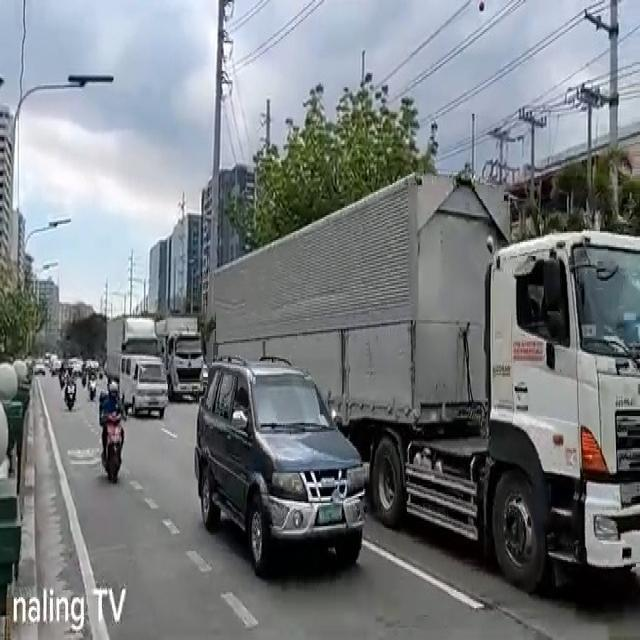car: (194, 354, 368, 580)
motorcycle: (99, 379, 125, 488), (64, 365, 79, 412), (88, 362, 98, 402)
truck: (211, 170, 640, 588), (106, 316, 160, 394), (158, 314, 204, 403), (120, 356, 168, 419)
